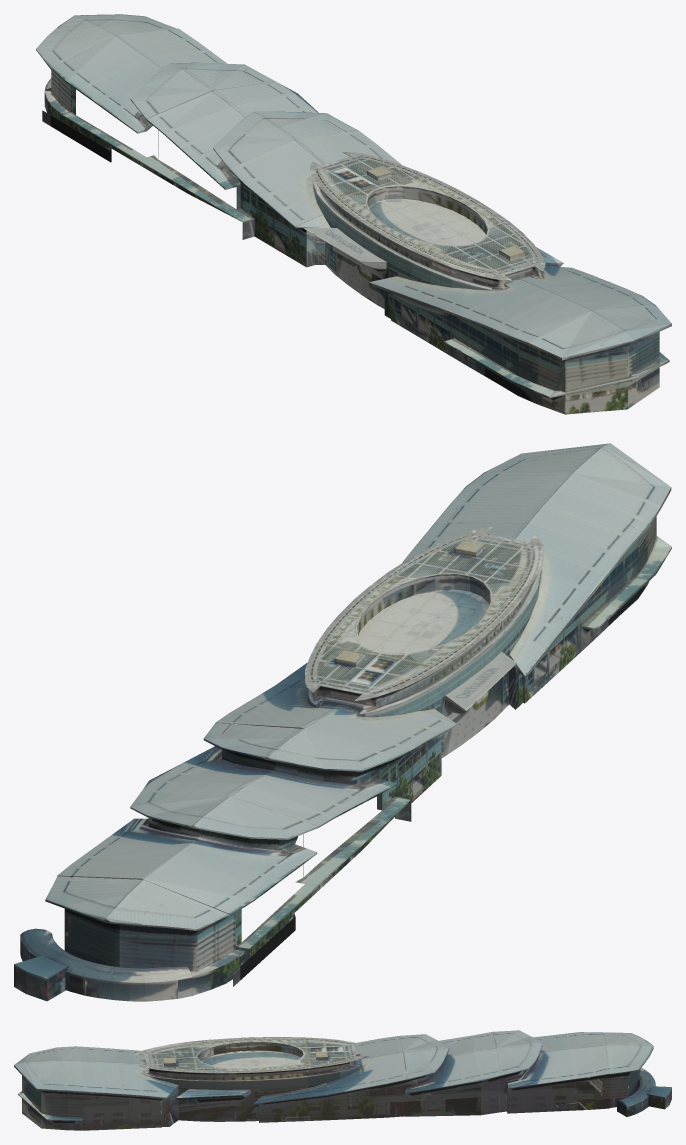
The picture shows the model from 3 angles, top to bottom: view 1: azimuth 30°, elevation 25°; view 2: azimuth 150°, elevation 25°; view 3: azimuth 270°, elevation 25°; orthographic projection. The views are drawn at different scales.
Visible parts, largest first — view 1: geometry_0; view 2: geometry_0; view 3: geometry_0.
Boxes of the visible parts, x1=… form: geometry_0: x1=36, y1=14, x2=671, y2=414; geometry_0: x1=14, y1=443, x2=671, y2=1001; geometry_0: x1=14, y1=1030, x2=671, y2=1130.
Bounding box in the file's own units: 49.93 × 15.61 × 180.
Materials: 1 (1 with a texture image).
